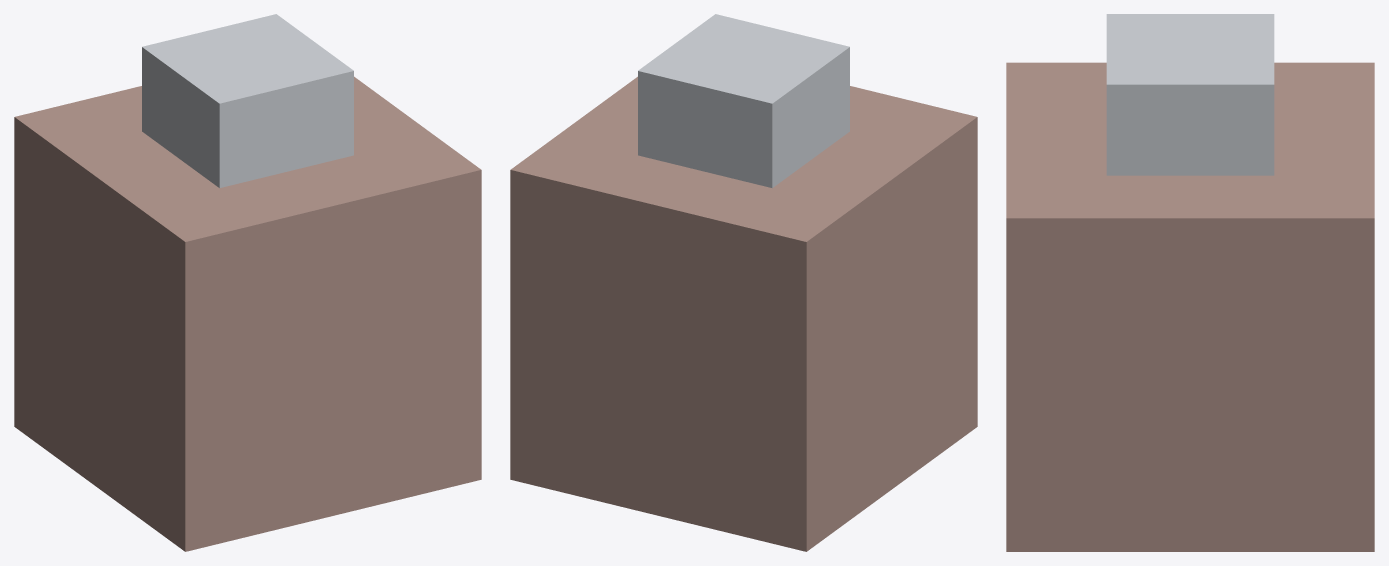
The model's file is prop.glb.
The picture shows the model from 3 angles, left to right: view 1: azimuth 30°, elevation 25°; view 2: azimuth 150°, elevation 25°; view 3: azimuth 270°, elevation 25°; orthographic projection. The views are drawn at different scales.
Visible parts, largest first — view 1: Cloth, Metal; view 2: Cloth, Metal; view 3: Cloth, Metal.
Part boxes in pixels (left/top/right/bottom): Cloth: left=14, top=76, right=481, bottom=551; Metal: left=142, top=14, right=353, bottom=188; Cloth: left=510, top=76, right=977, bottom=551; Metal: left=638, top=14, right=849, bottom=188; Cloth: left=1006, top=62, right=1374, bottom=551; Metal: left=1106, top=14, right=1274, bottom=175.
Bounding box in the file's own units: 0.22 × 0.28 × 0.22.
